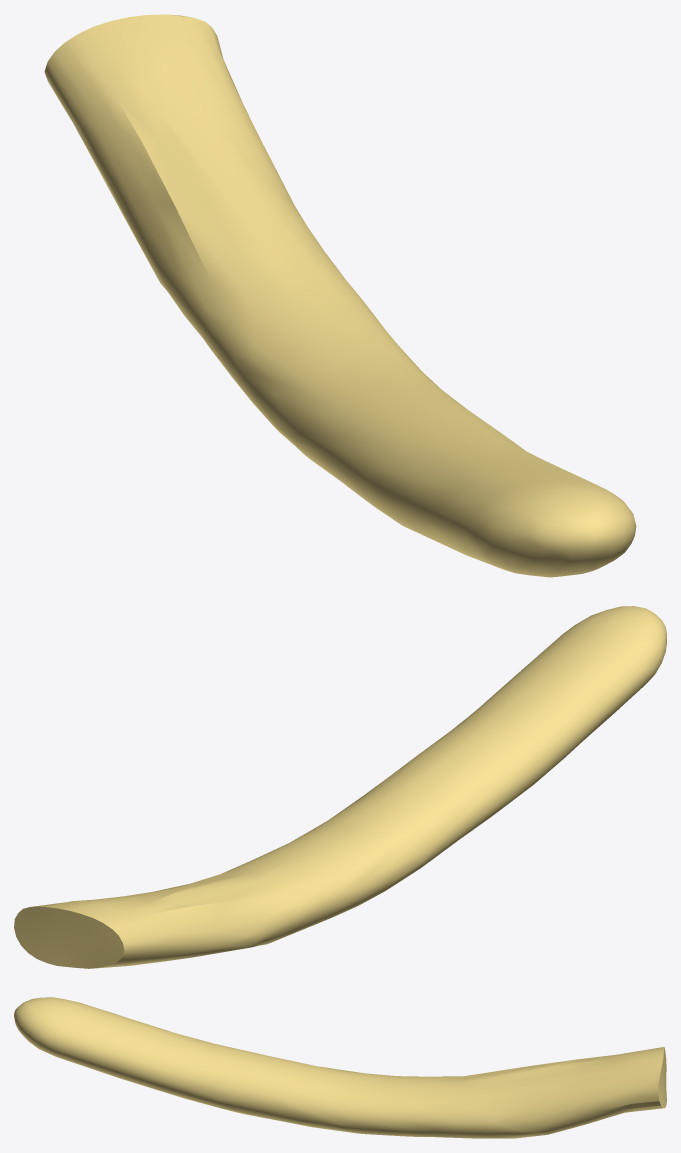
The model's file is fma223162_mm3003.glb.
3 views of the same model, one above another, from view 1: azimuth 30°, elevation 25°; view 2: azimuth 150°, elevation 25°; view 3: azimuth 270°, elevation 25° (orthographic). The views are drawn at different scales.
Visible parts, largest first — view 1: FMA223162_MM3003; view 2: FMA223162_MM3003; view 3: FMA223162_MM3003.
Boxes of the visible parts, left/top/right/bottom form: FMA223162_MM3003: left=44, top=14, right=636, bottom=577; FMA223162_MM3003: left=14, top=606, right=666, bottom=968; FMA223162_MM3003: left=14, top=997, right=666, bottom=1138.
Bounding box in the file's own units: 0.00847 × 0.00488 × 0.029.
